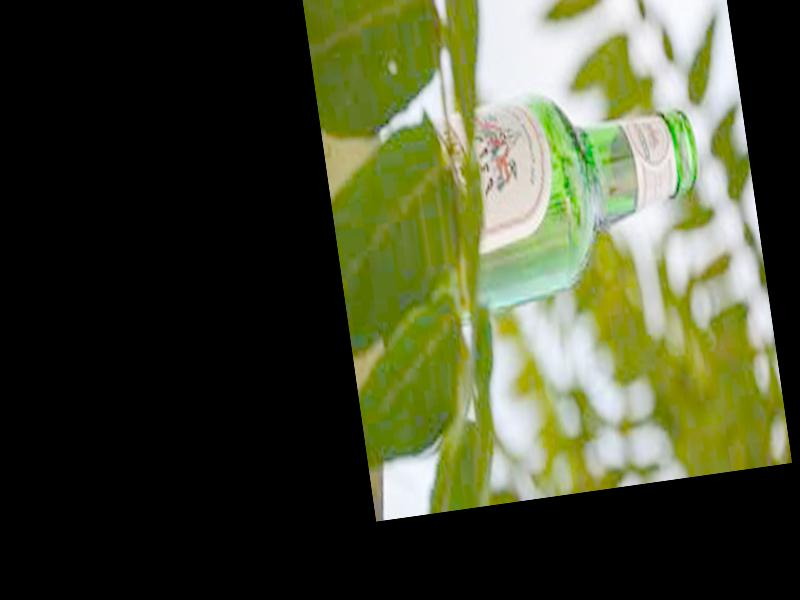Beer: (427, 75, 714, 312)
